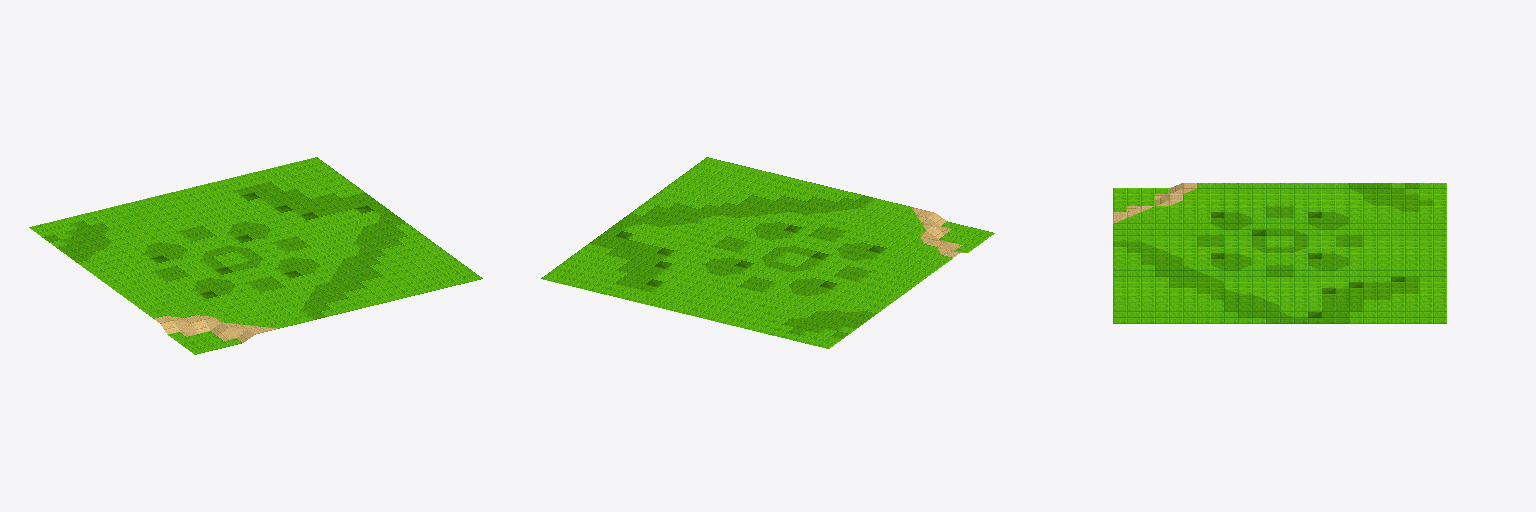
The picture shows the model from 3 angles: view 1: azimuth 30°, elevation 25°; view 2: azimuth 150°, elevation 25°; view 3: azimuth 270°, elevation 25°; orthographic projection.
Parts seen in each view (by area): view 1: FloorCorner_1; view 2: FloorCorner_1; view 3: FloorCorner_1.
Boxes of the visible parts, x1,y1,x2,y2 form: FloorCorner_1: [29, 157, 482, 354]; FloorCorner_1: [541, 157, 994, 348]; FloorCorner_1: [1113, 183, 1446, 323].
Bounding box in the file's own units: 24 × 0.4541 × 24.
10 materials, 10 textured.